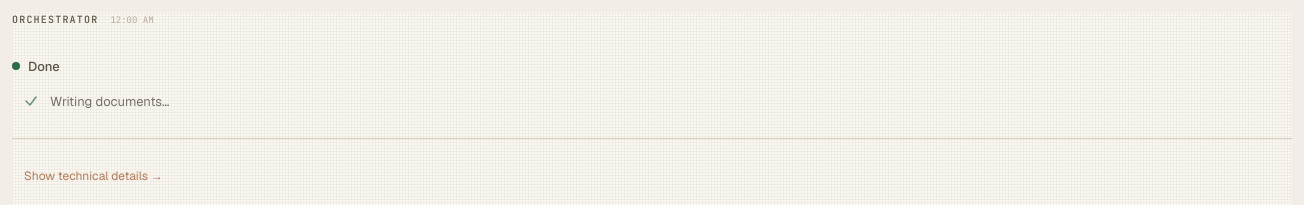
Scenario: ChatMessage › shows a plain-English activity label by default, raw tool name behind the toggle
The image size is (1304, 205).
Expected: the text "WRITE FILE" is not shown
# Opting into technical details reveals the raw ToolCallBlock.
Click the button "Show technical details →".
click(94, 176)  # box top-left (12, 163), bottom-right (175, 189)
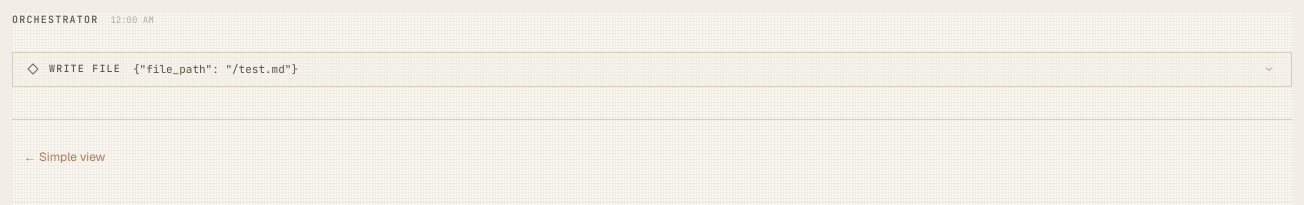
Expected: the text "WRITE FILE" is shown, top-left (49, 61), bottom-right (121, 78)
